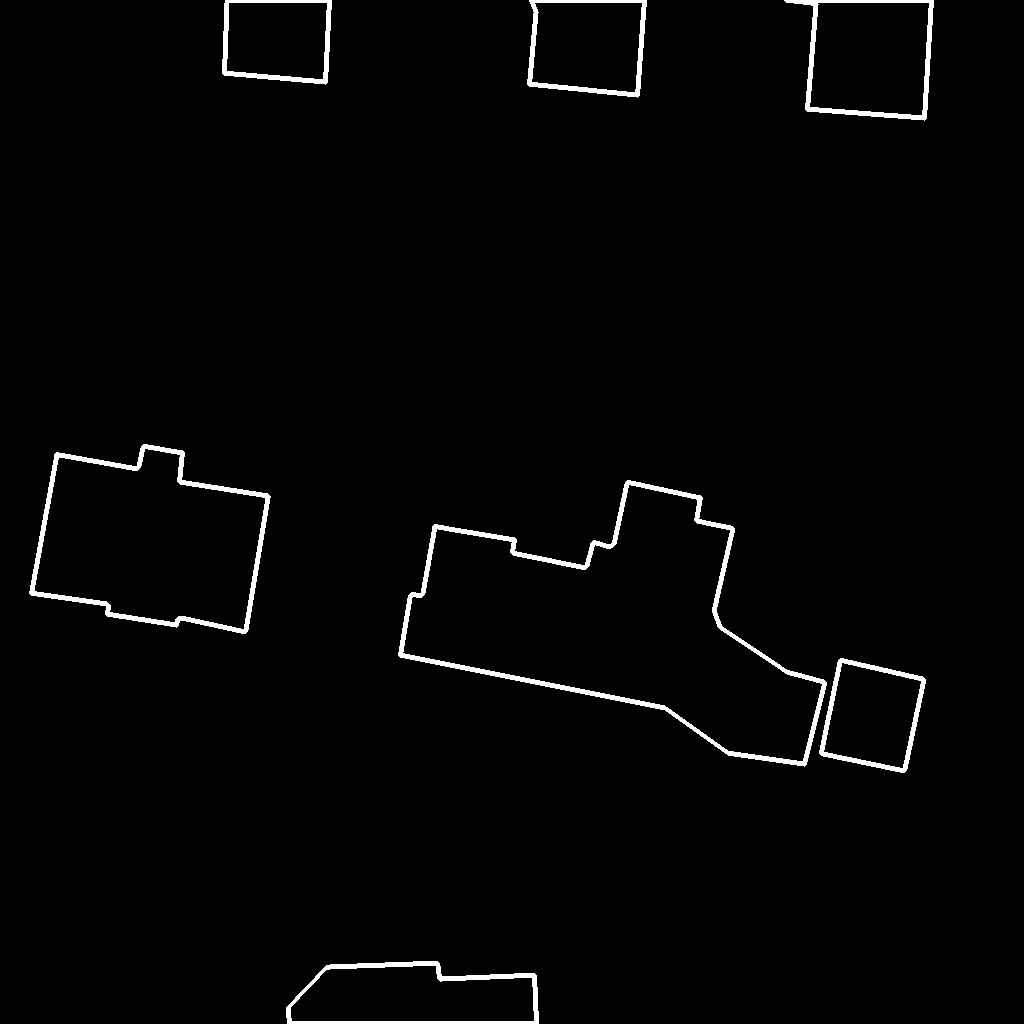building: (400, 482, 826, 765), (31, 446, 270, 633), (782, 0, 933, 119), (288, 963, 538, 1024), (821, 660, 925, 772), (529, 0, 646, 96), (224, 0, 331, 83)
